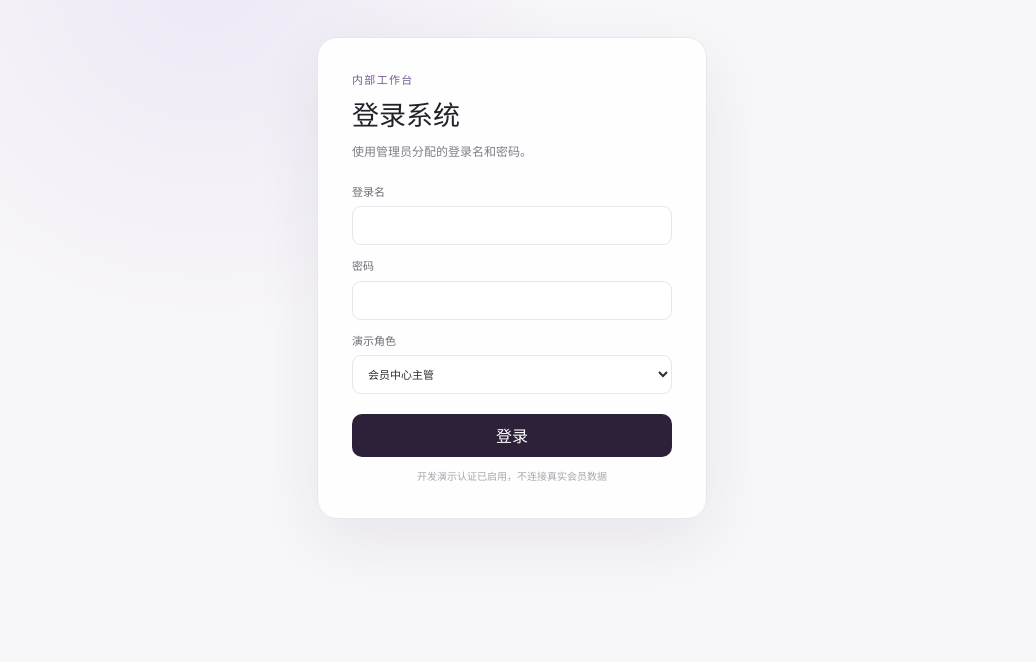
Test: Dashboard › renders the primary operating sections
Expected: the heading "登录系统" is shown, [352,99,460,132]
Type "002" into the field labelled "登录名" at [512, 226], box [352,206,672,245]
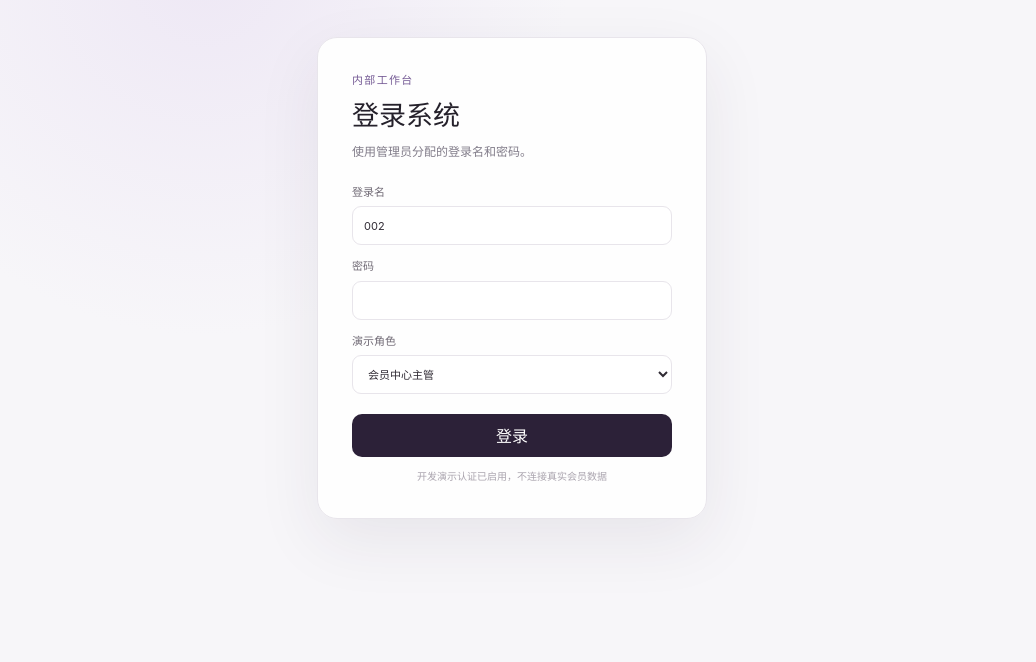
Type "Demo123!" into the password field labelled "密码" at [512, 300], box [352,281,672,320]
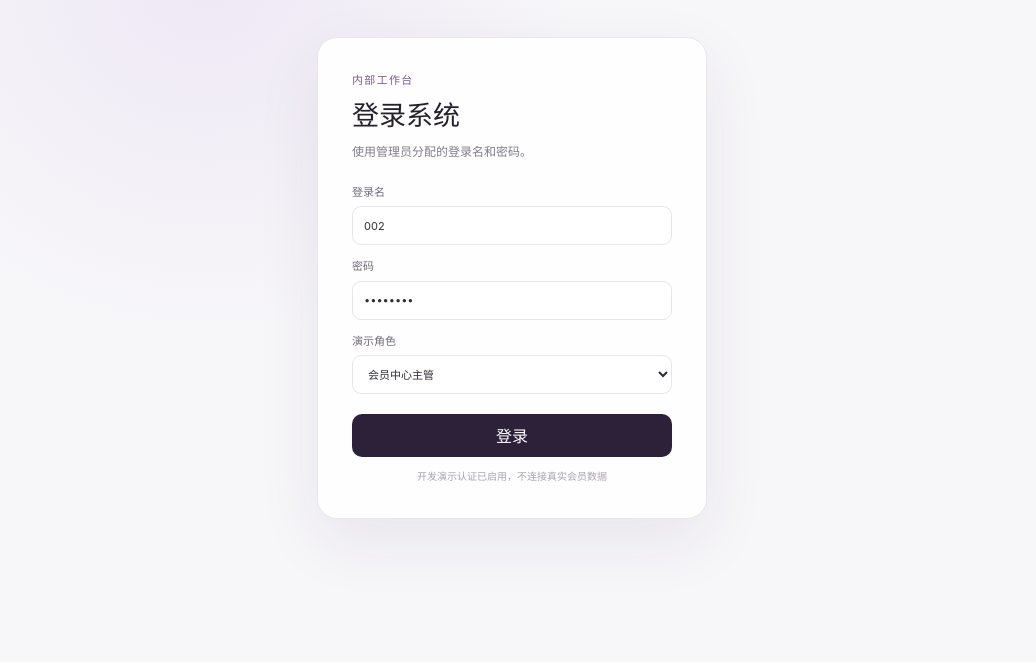
Select "管理层" in the dropdown labelled "演示角色" at [512, 375], box [352,355,672,394]
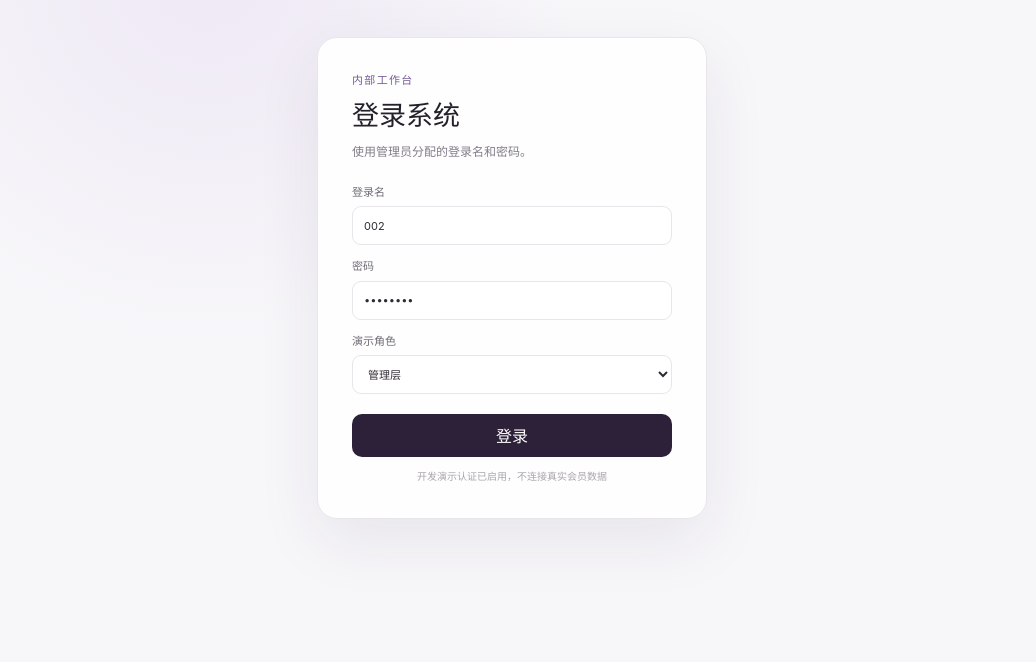
Click the button "登录" at [512, 436], box [352,414,672,457]
(page scrolled)
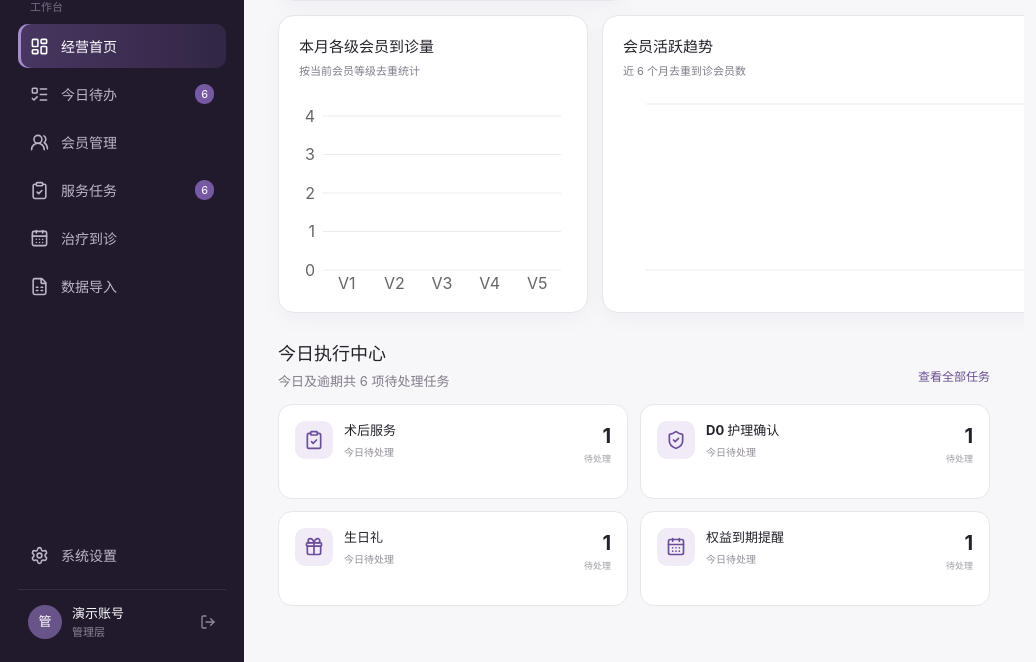
Expected: the heading "今日执行中心" is shown, [278,342,386,364]
Expected: the text "D0 护理确认" is shown, [706,422,779,438]
